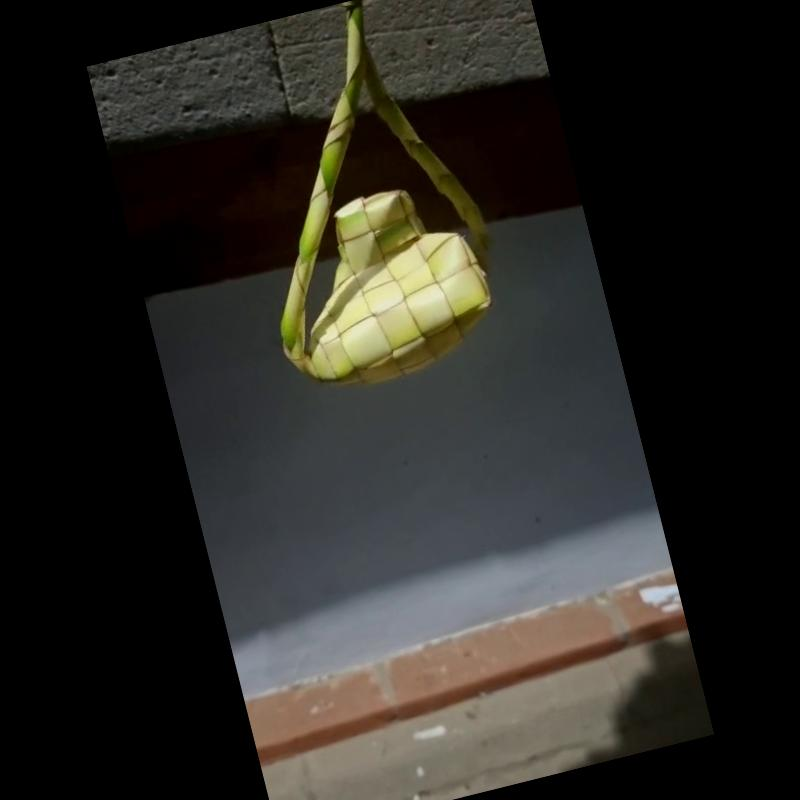Tipat Gong: (279, 0, 489, 386)
